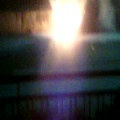fire: (49, 0, 84, 46)
